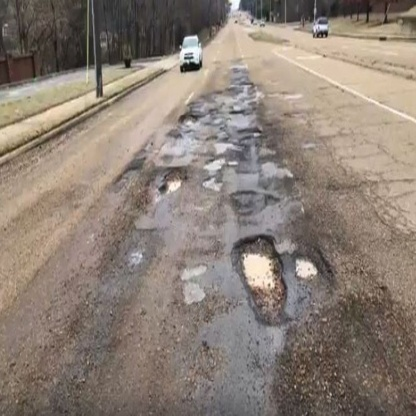pothole: (223, 228, 297, 329), (180, 102, 267, 154), (286, 244, 339, 299), (155, 159, 190, 205)
